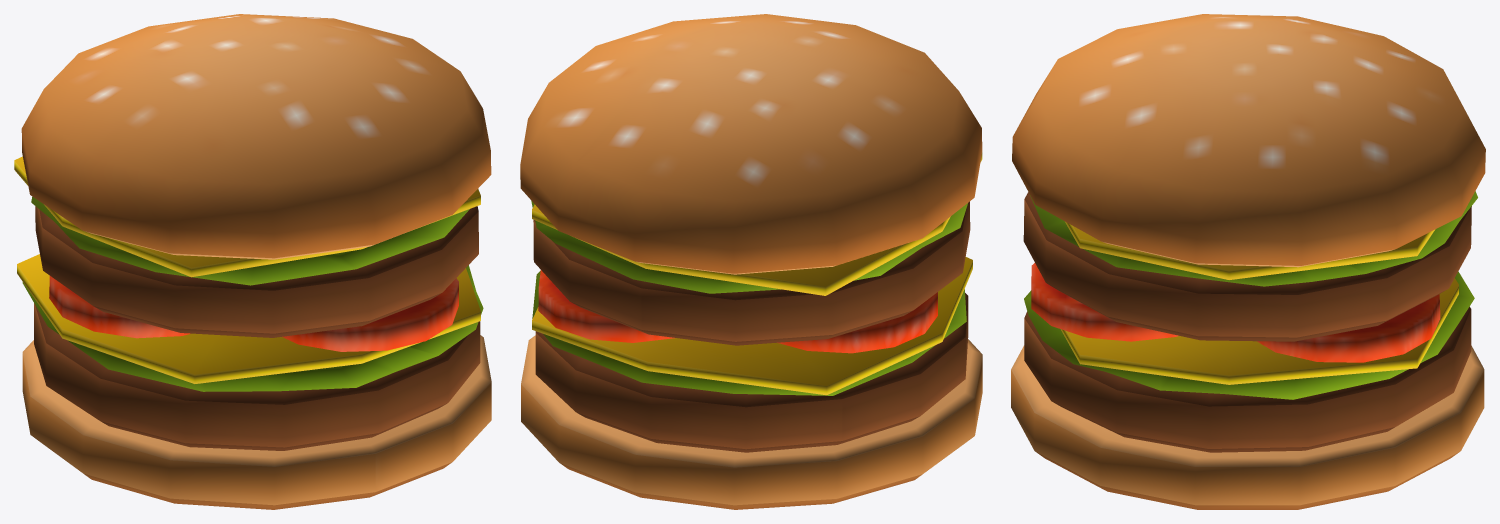
The model's file is Hambuger.FBX.
3 renders of one model, left to right at view 1: azimuth 30°, elevation 25°; view 2: azimuth 150°, elevation 25°; view 3: azimuth 270°, elevation 25°, orthographic.
Visible parts, largest first — view 1: Hambuger; view 2: Hambuger; view 3: Hambuger.
Boxes of the visible parts, <box> form: Hambuger: <box>14,14,491,509</box>; Hambuger: <box>520,14,982,509</box>; Hambuger: <box>1011,14,1485,509</box>.
Bounding box in the file's own units: 193 × 168 × 199.
